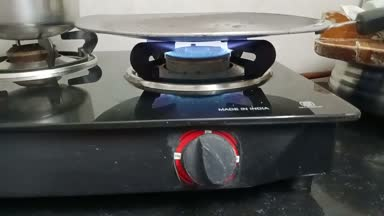flame_gas_on: (125, 37, 292, 192)
